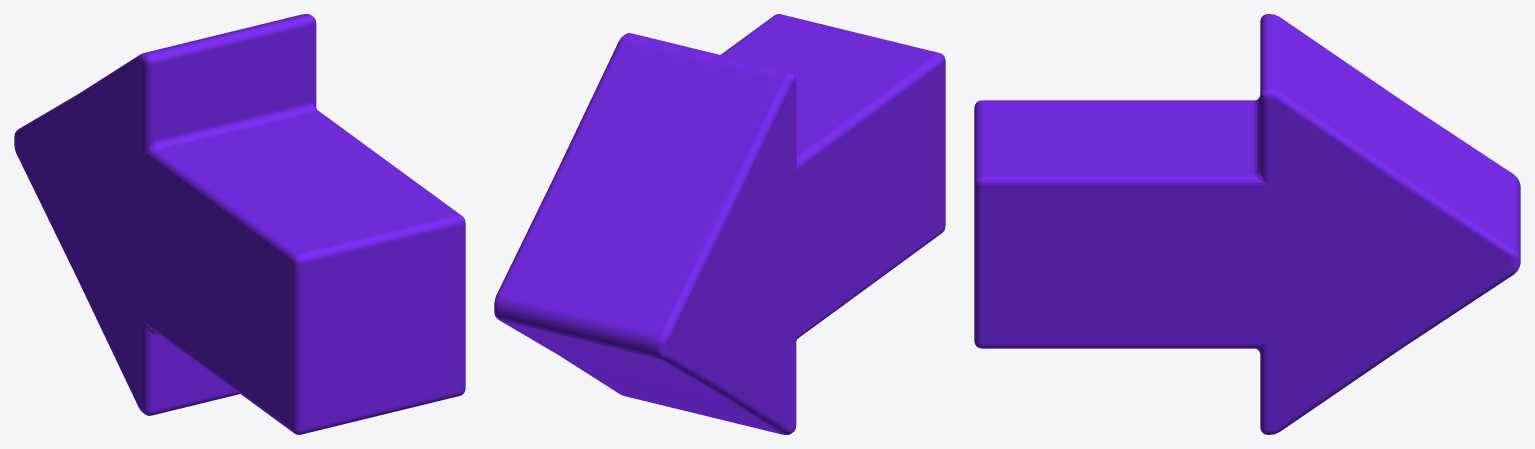
Rendered from Arrow.glb.
3 views of the same model, side by side, from view 1: azimuth 30°, elevation 25°; view 2: azimuth 150°, elevation 25°; view 3: azimuth 270°, elevation 25° (orthographic). The views are drawn at different scales.
Parts seen in each view (by area): view 1: Cube; view 2: Cube; view 3: Cube.
Part boxes in pixels (x1,y1,x2,y2): Cube: (14, 14, 465, 434); Cube: (494, 14, 945, 434); Cube: (974, 14, 1520, 434).
Size of the model in its own units: 2 by 4 by 5.73.
